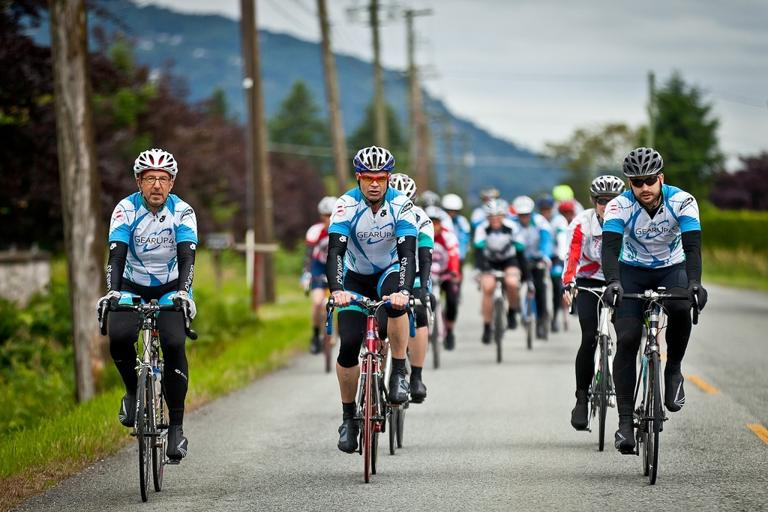non-vehicle: (98, 296, 197, 501), (611, 285, 698, 485), (326, 296, 414, 482), (363, 295, 434, 454), (567, 282, 630, 452)
